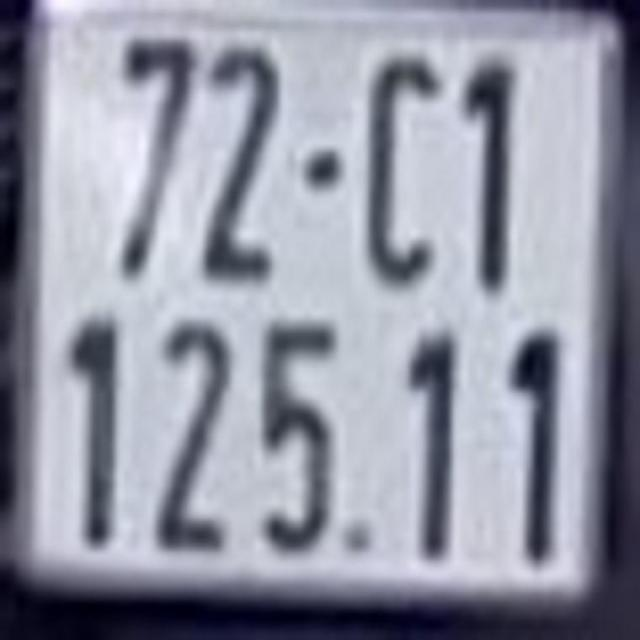1: (498, 314, 582, 576), (399, 314, 475, 568), (58, 308, 136, 551), (455, 42, 523, 293)
2: (200, 36, 282, 290), (152, 306, 230, 564)
5: (256, 307, 337, 559)
7: (116, 30, 192, 276)
C: (357, 46, 447, 286)
